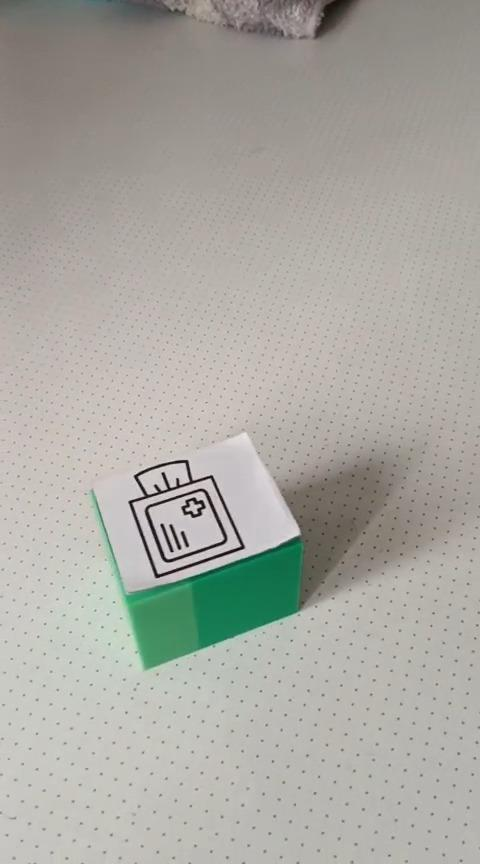Gauze: (89, 430, 304, 670)
